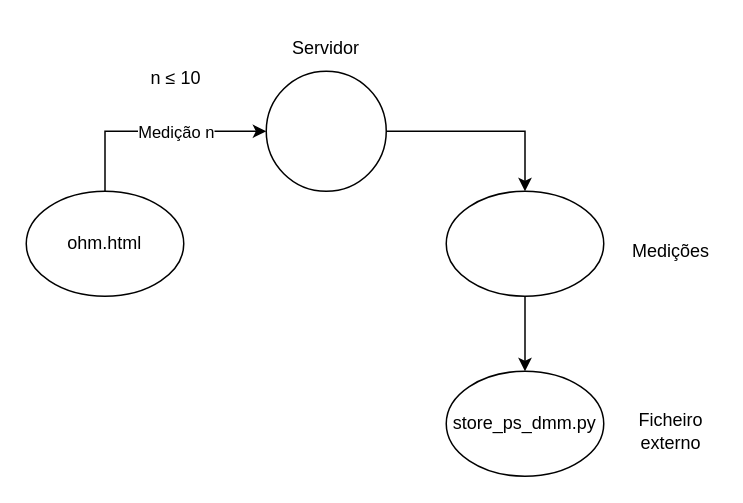
Some shapes in this 743 by 503 pixel diagram are drawn without their labels. Each missing label, with the centre of its shape:
configVB.py: pixel 524 243
views.py: pixel 325 130
